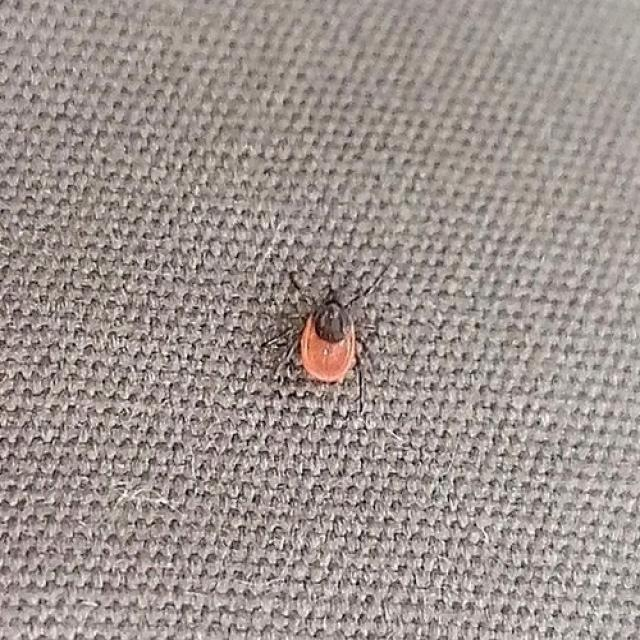Ixodes Ricinus-F: (260, 270, 383, 401)
